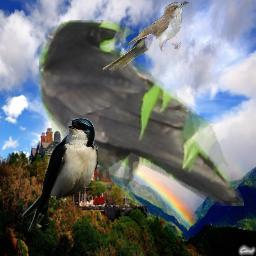Crow: (39, 20, 244, 206)
Cuckoo: (102, 1, 189, 71)
Swallow: (22, 118, 98, 232)
